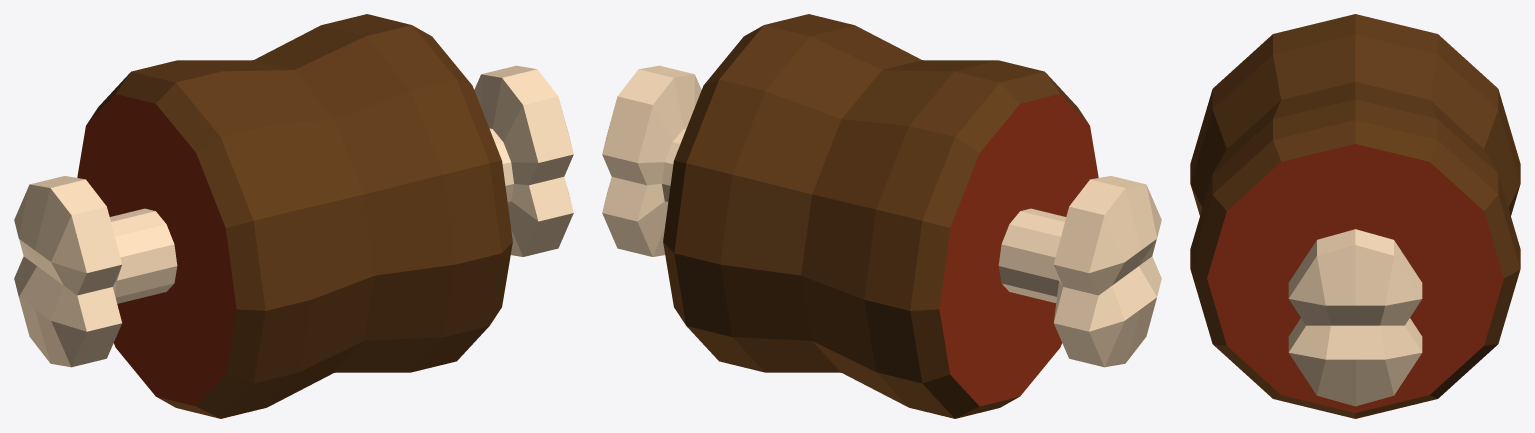
The model's file is Meat_01.fbx.
The picture shows the model from 3 angles, left to right: view 1: azimuth 30°, elevation 25°; view 2: azimuth 150°, elevation 25°; view 3: azimuth 270°, elevation 25°; orthographic projection. The views are drawn at different scales.
Parts seen in each view (by area): view 1: Meat_01; view 2: Meat_01; view 3: Meat_01.
Part boxes in pixels (x1,y1,x2,y2): Meat_01: [14, 14, 573, 418]; Meat_01: [602, 14, 1161, 418]; Meat_01: [1190, 14, 1520, 418].
Size of the model in its own units: 70 by 42 by 42.
1 material, 1 textured.
